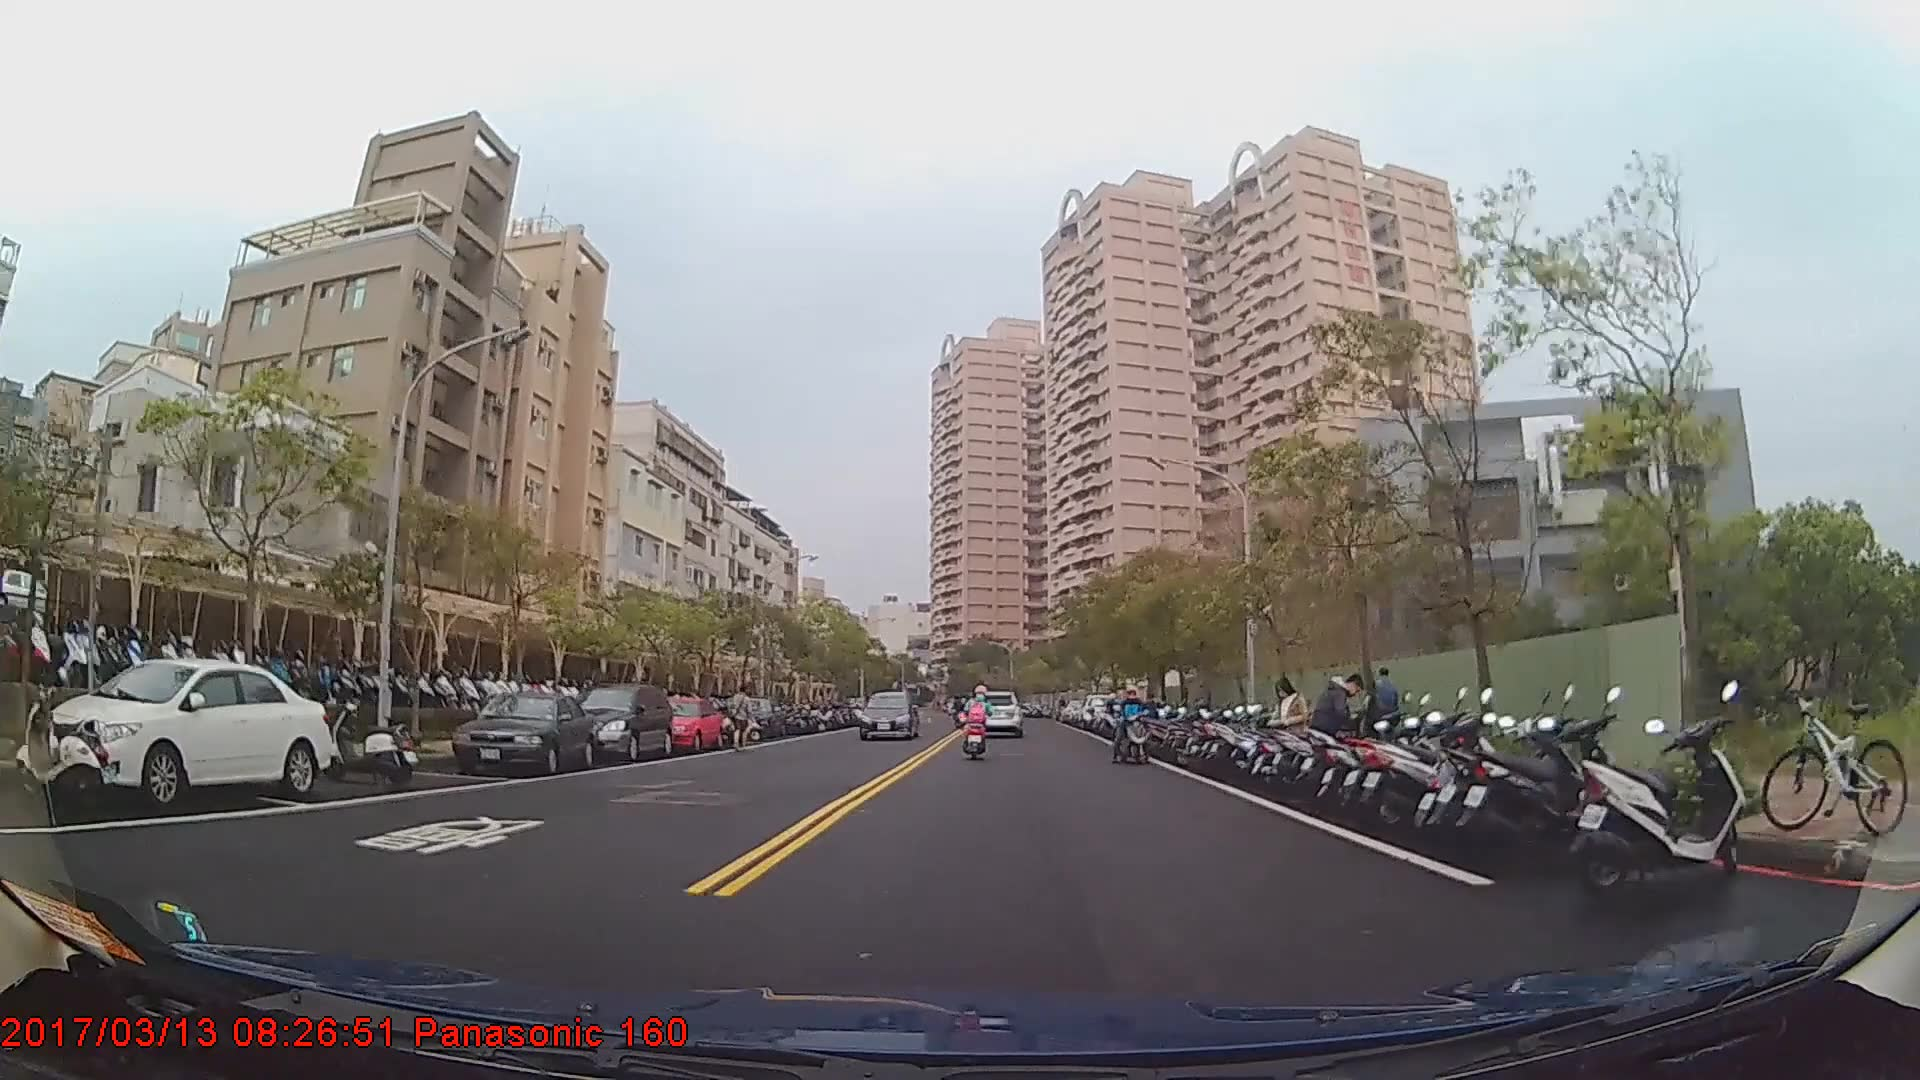pedestrian: (1309, 672, 1371, 801), (1267, 677, 1316, 800), (1372, 668, 1404, 751), (727, 684, 758, 752)
rider: (1111, 684, 1153, 767), (962, 684, 993, 755)
vehicle: (40, 655, 331, 807), (448, 689, 596, 776), (571, 683, 674, 761), (640, 691, 724, 749), (858, 687, 918, 739), (968, 689, 1022, 737)
